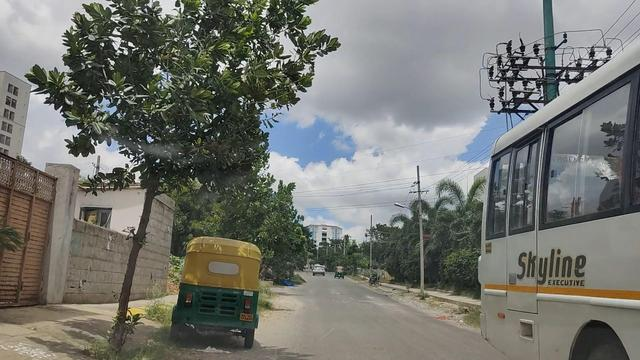HMV: (481, 34, 640, 360)
